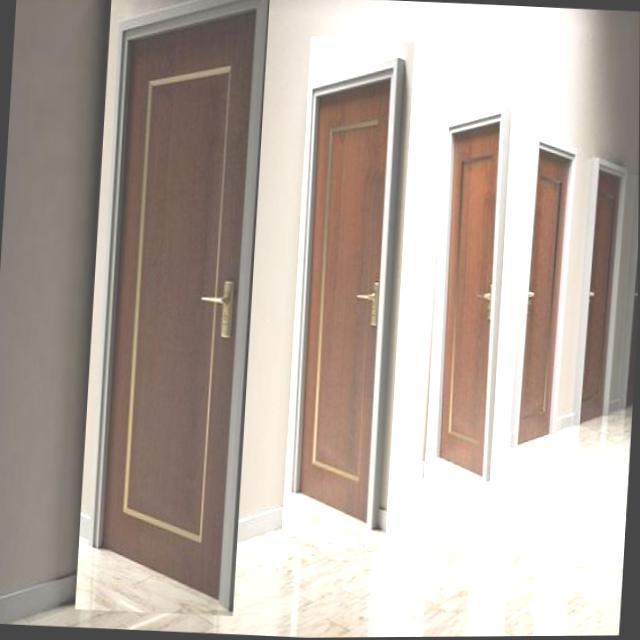close: (75, 0, 271, 620), (281, 37, 416, 553), (424, 89, 514, 493), (507, 113, 578, 456), (569, 138, 632, 435)
